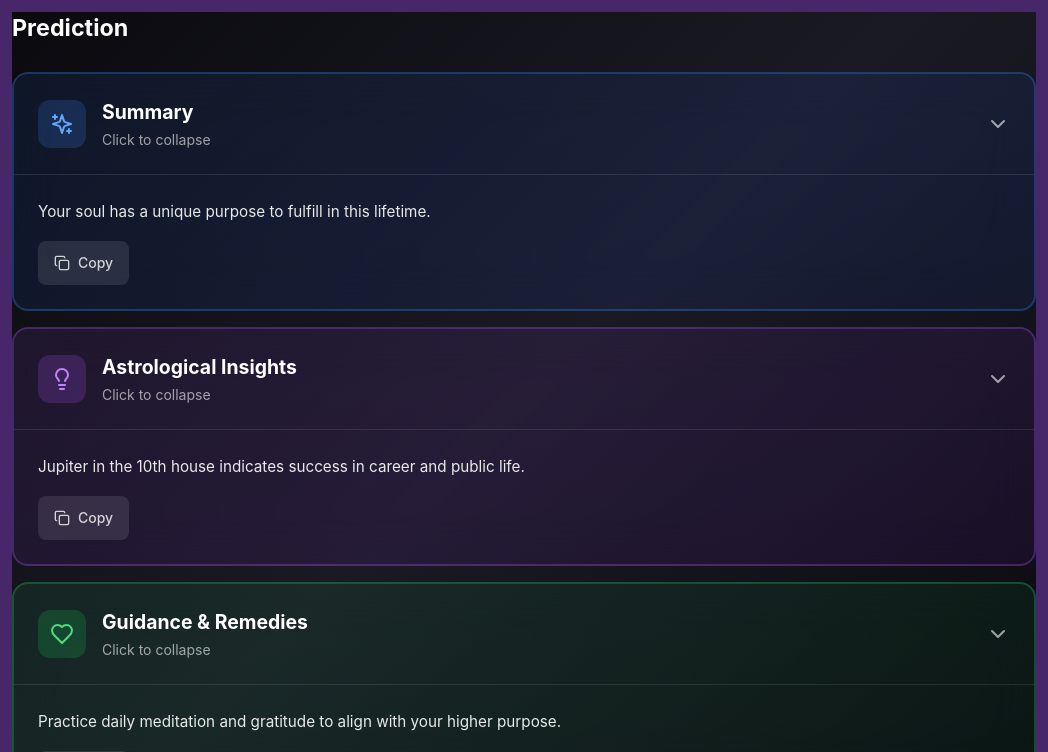
Test: CrystalClearPrediction › Copy Functionality › shows "Copied!" feedback after copying
The width and height of the screenshot is (1048, 752).
Click the 1st button labelled "Copy". click: [84, 263]
box: [38,241,129,285]
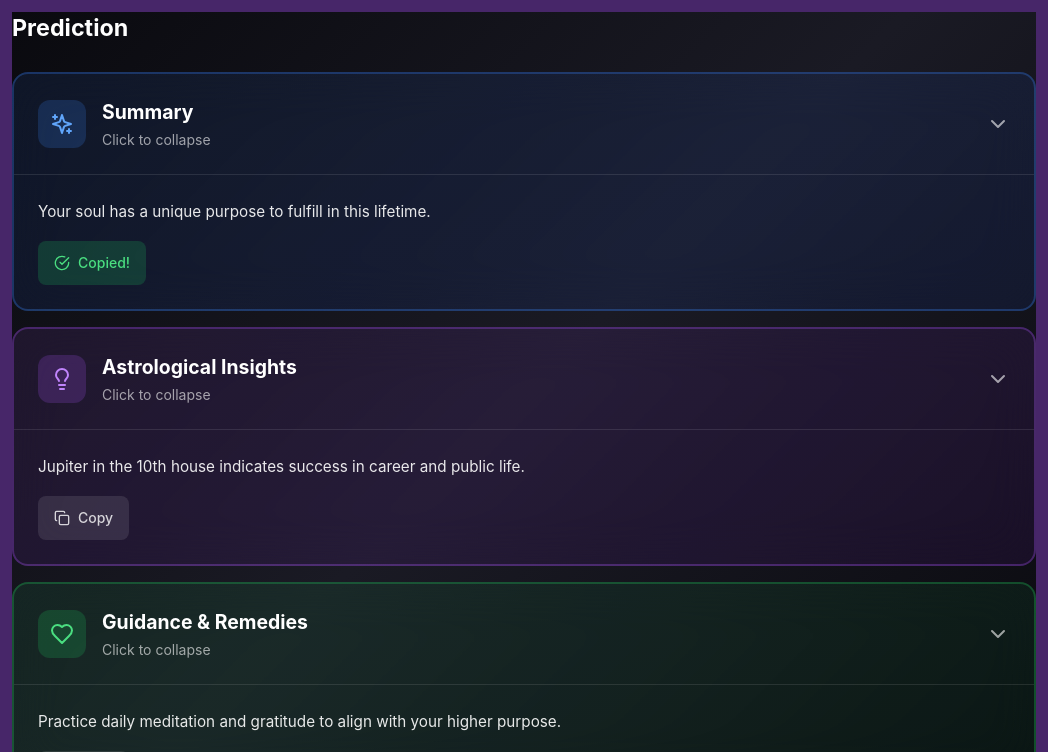
Expected: the text "Copied!" is shown, [78,253,130,273]
